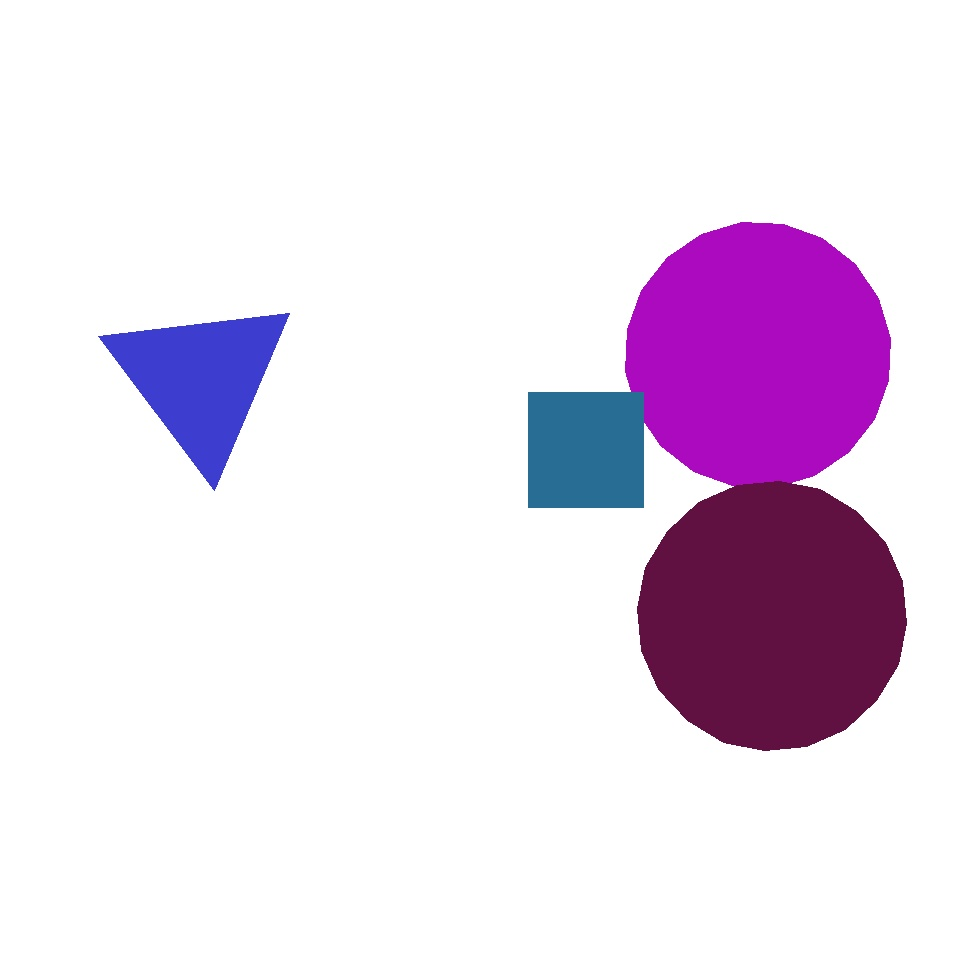circle: (423, 372, 690, 666), (106, 291, 296, 468), (82, 68, 170, 158)
square: (528, 392, 644, 508)
triangle: (261, 9, 620, 368), (638, 482, 906, 751), (625, 222, 890, 488), (578, 744, 768, 932), (824, 414, 940, 530)
